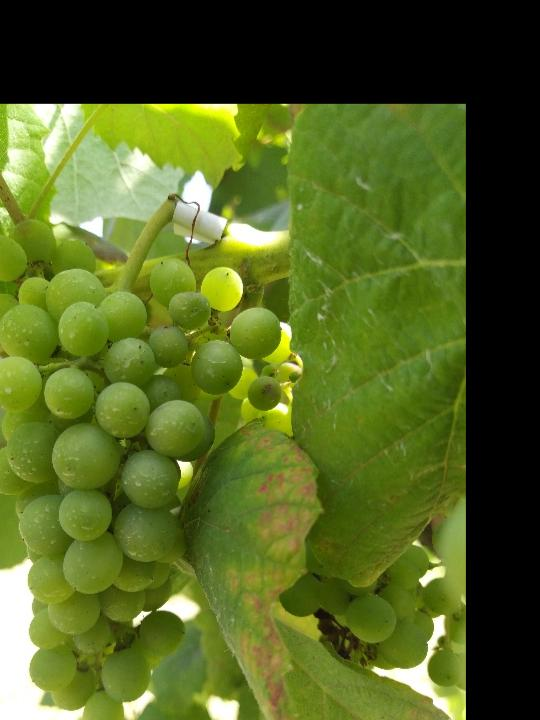grape: (0, 219, 302, 720)
